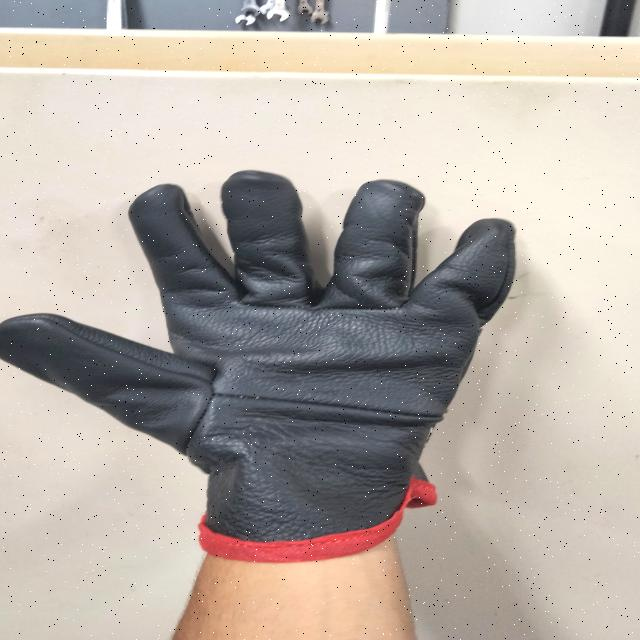Gloves: (0, 165, 550, 557)
